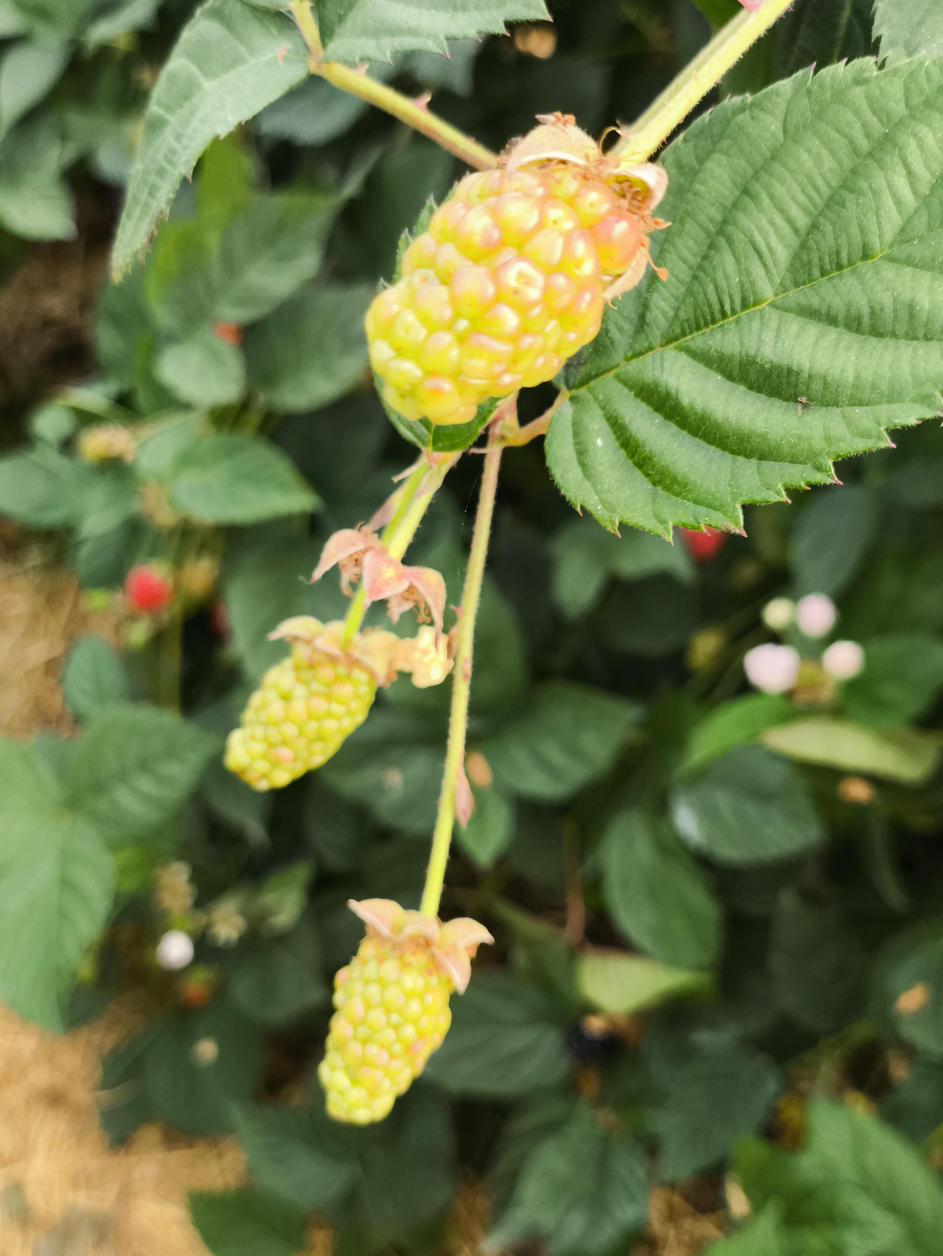verde: (367, 171, 651, 424), (318, 900, 493, 1125), (225, 642, 376, 791)
